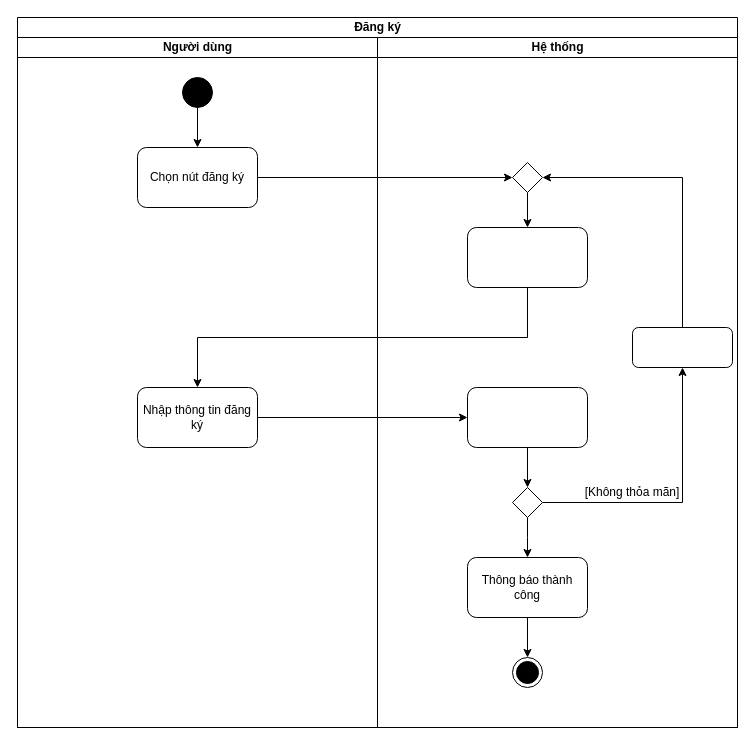
Image size: 755x745. Some labels were removed from this diagram. The centre of each missing label's shape, as x and y in pixels:
"Hiển thị màn hình đăng ký" goes at (x=527, y=257).
"Thông báo lỗi" goes at (x=682, y=347).
"Xác minh các thông tin" goes at (x=527, y=417).
